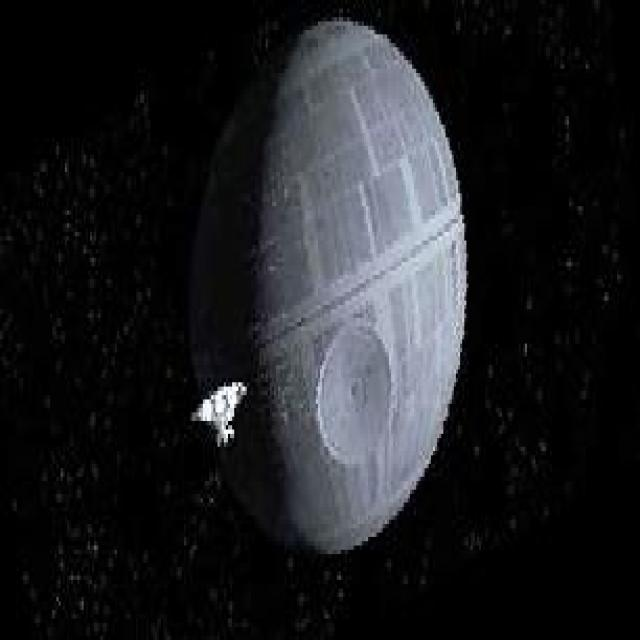Death Star: (183, 2, 472, 563)
